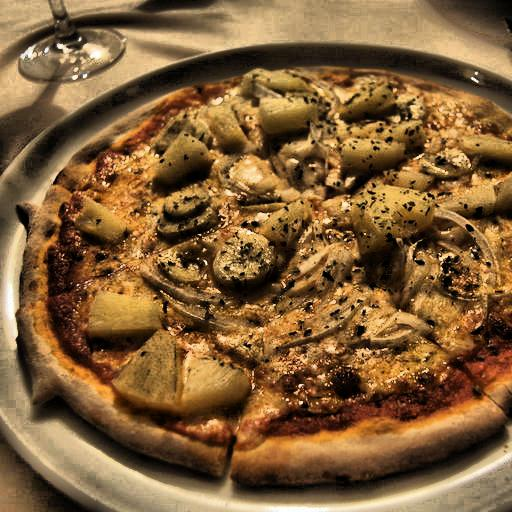pizza: (33, 71, 512, 469)
